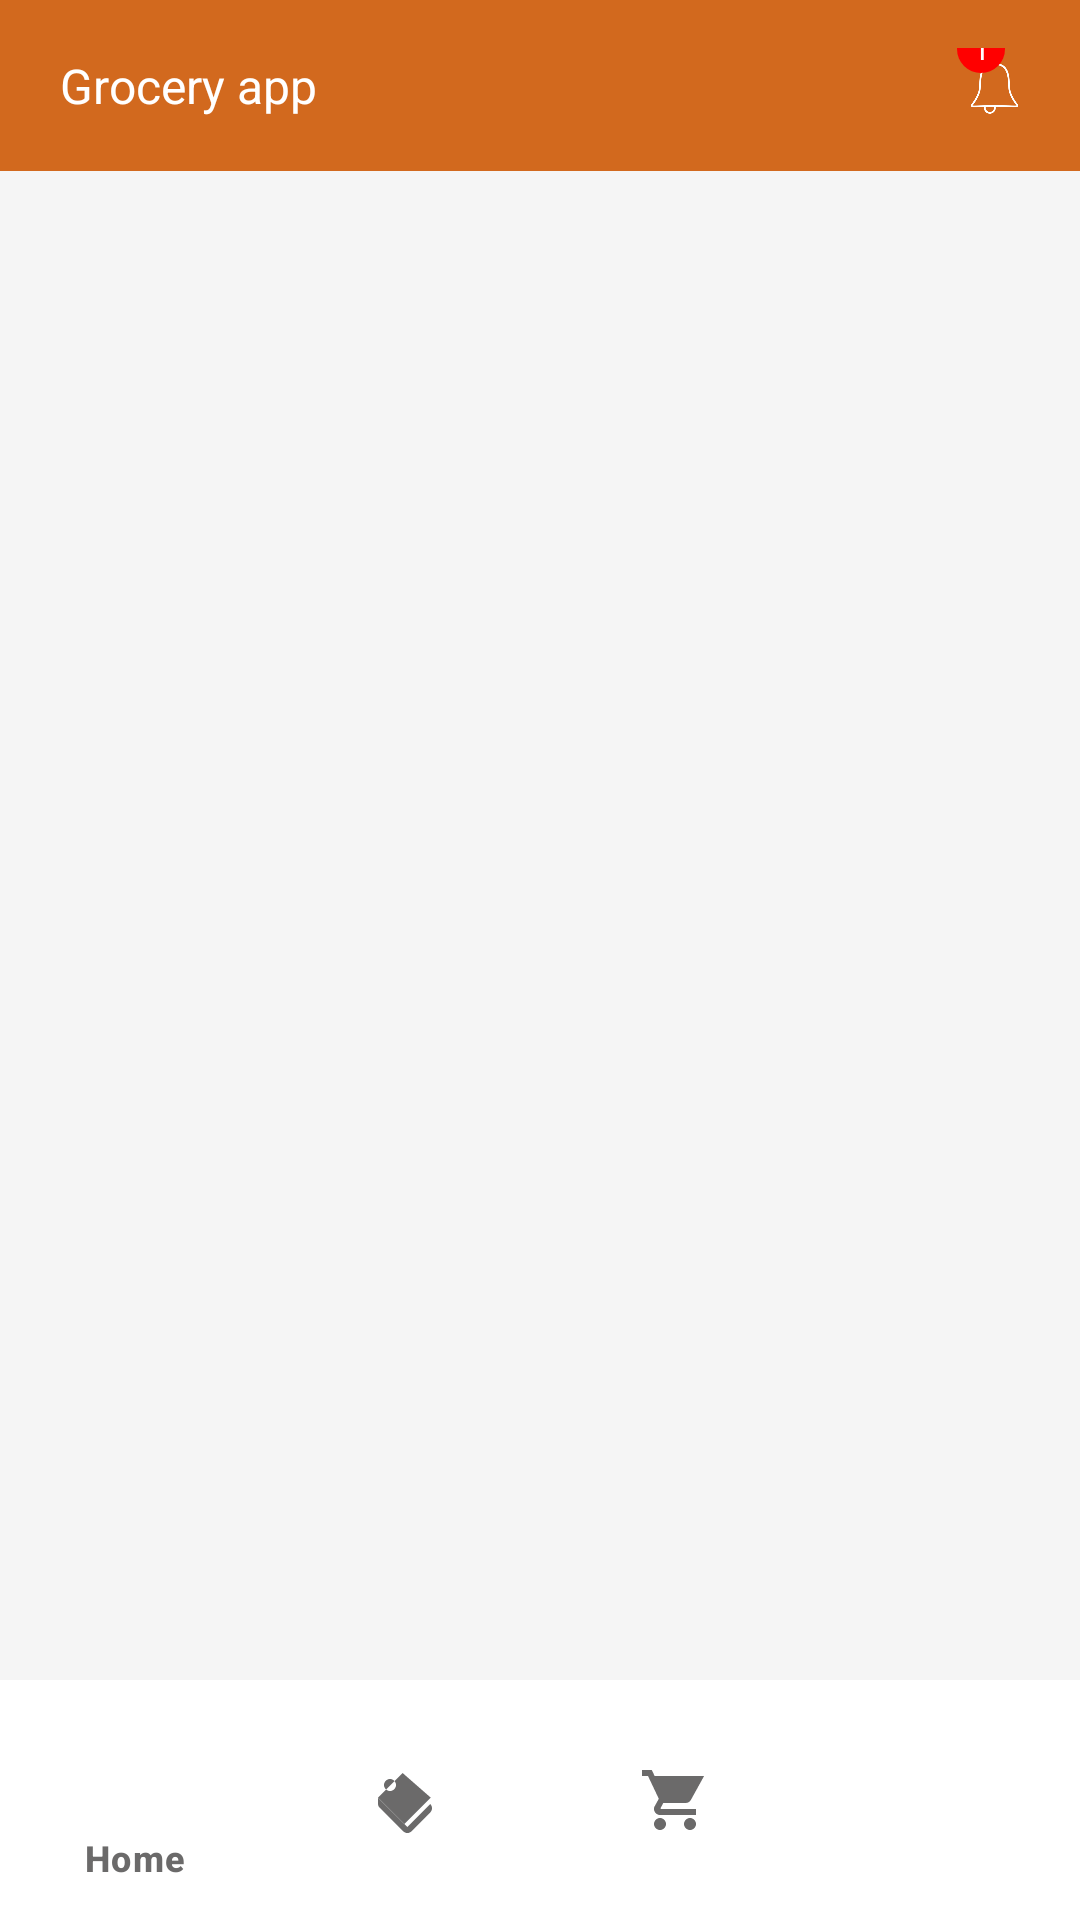

Screen size 1080px x 1920px. Icon name, then its center in pixels as (x=x, y=y):
bellicon: (x=987, y=81)
